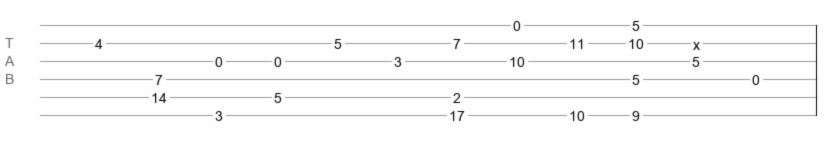0: (215, 54, 223, 64), (274, 54, 282, 64), (513, 18, 521, 28), (752, 72, 760, 82)
10: (509, 54, 525, 64), (569, 108, 585, 118), (628, 36, 644, 46)
11: (569, 36, 585, 46)
14: (151, 90, 167, 100)
17: (449, 108, 465, 118)
2: (453, 90, 461, 100)
3: (215, 108, 223, 118), (394, 54, 402, 64)
4: (95, 36, 103, 46)
5: (274, 90, 282, 100), (334, 36, 342, 46), (632, 18, 640, 28), (632, 72, 640, 82), (692, 54, 700, 64)
7: (155, 72, 163, 82), (453, 36, 461, 46)
9: (632, 108, 640, 118)
x: (693, 37, 700, 45)
